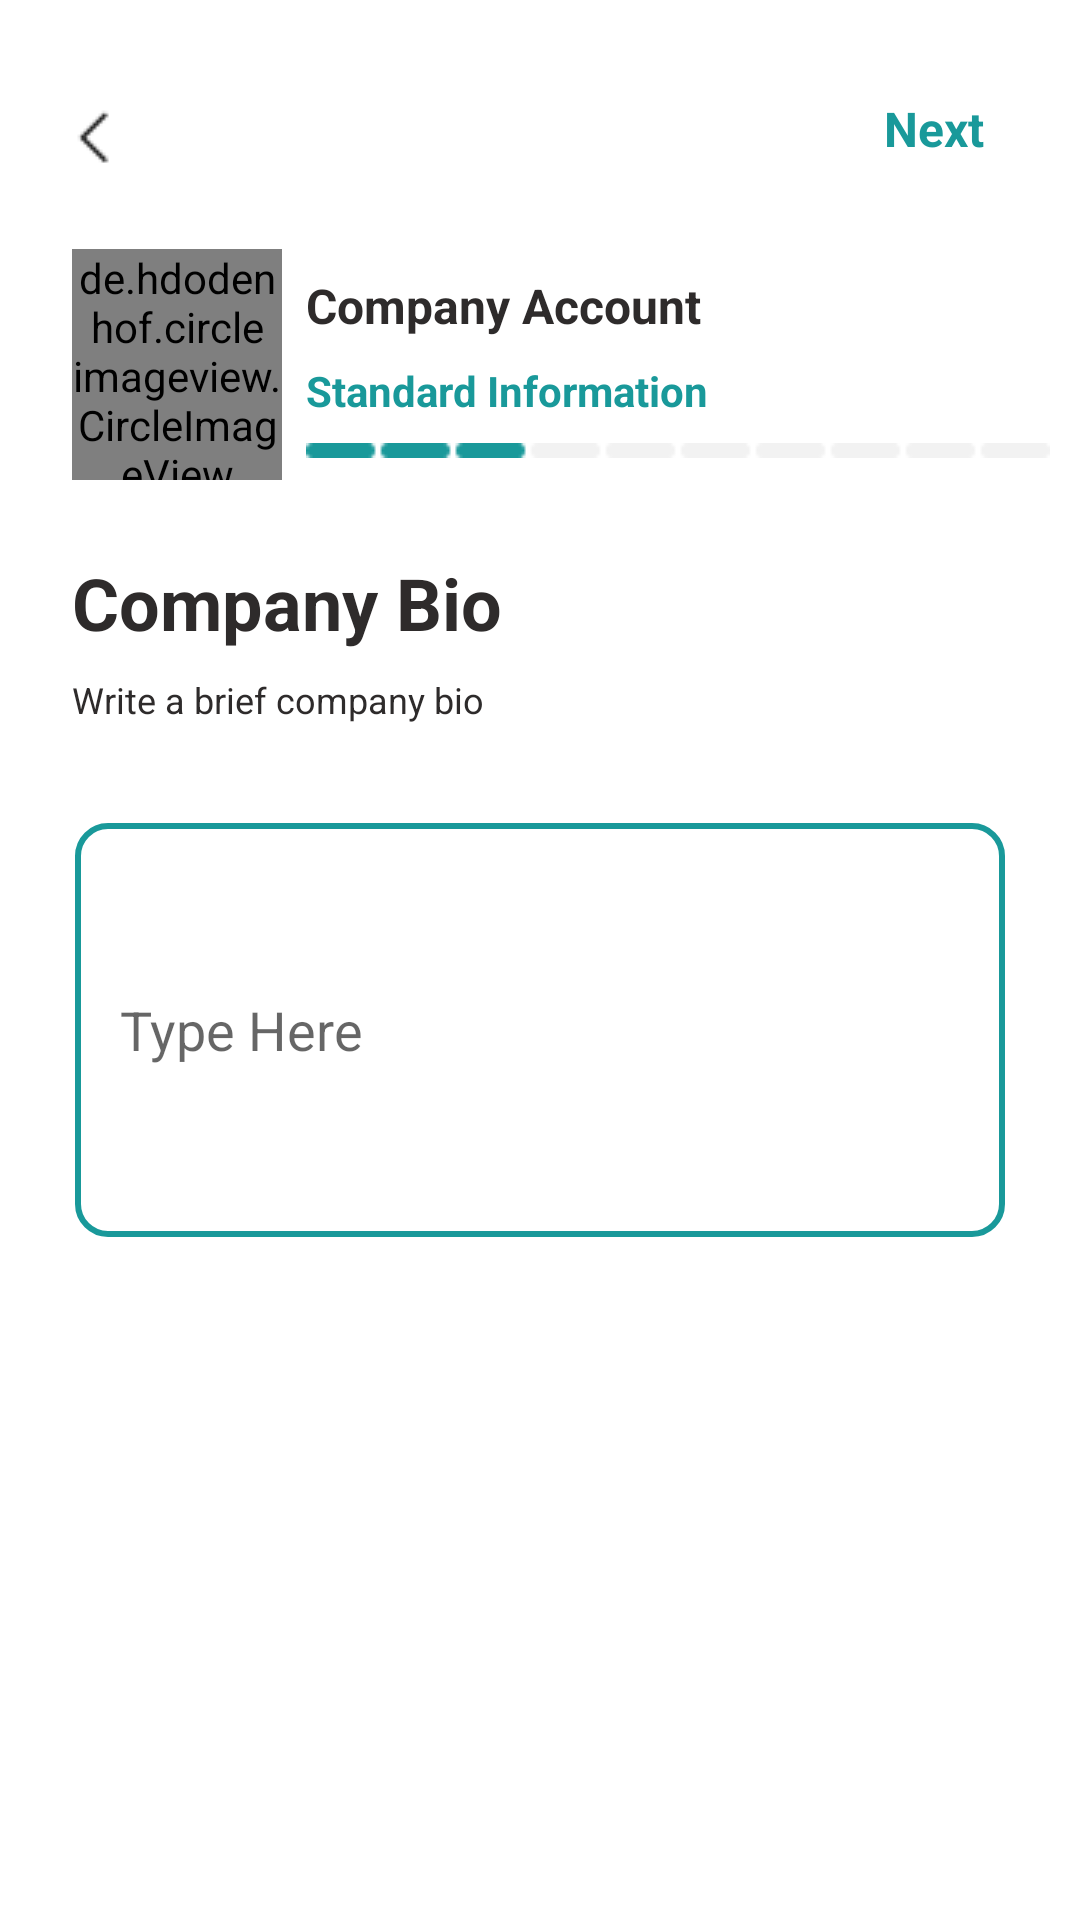

Point at icon controls on the screen. Image size 1080x1920, points as (x=x, y=y).
back: (x=94, y=137)
